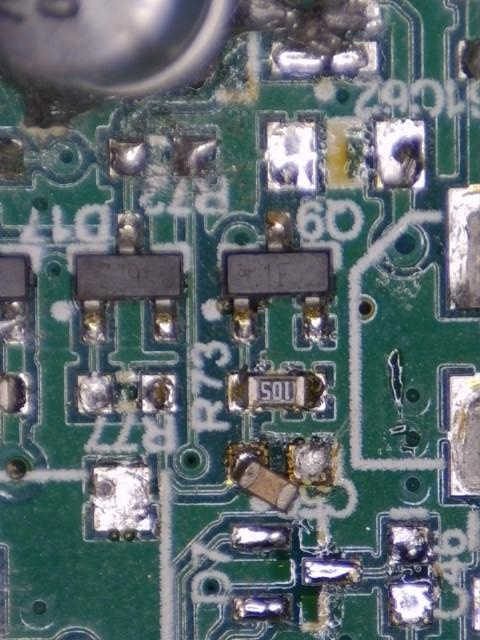pcb_defect: (221, 211, 330, 341), (227, 442, 333, 513)
